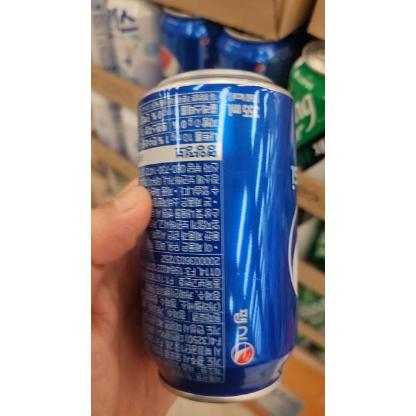Can: (136, 66, 310, 406)
